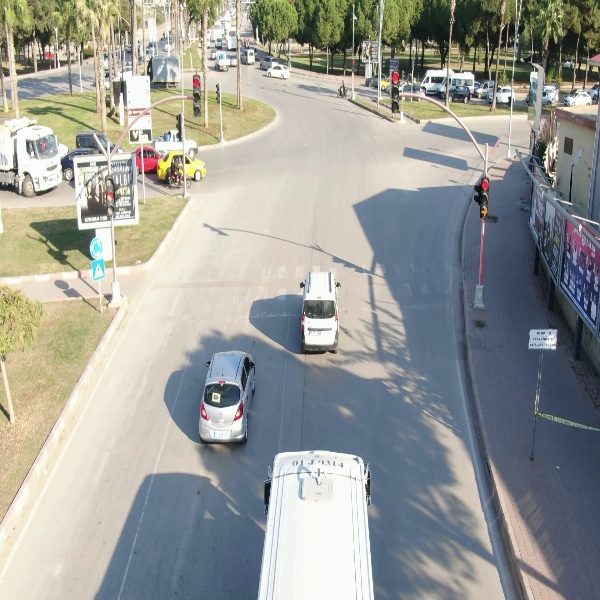car: (196, 349, 258, 446), (299, 268, 341, 356), (486, 85, 518, 106), (562, 89, 595, 109), (445, 85, 473, 105), (266, 63, 291, 79), (238, 47, 258, 66)
